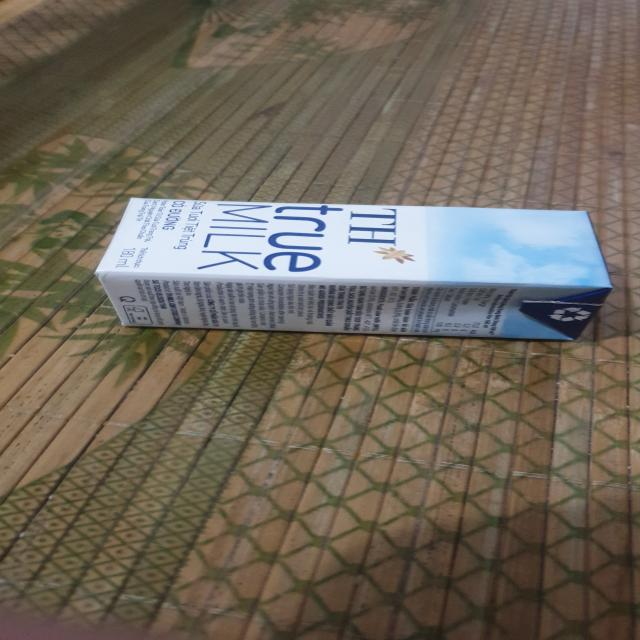TH: (93, 195, 620, 350)
